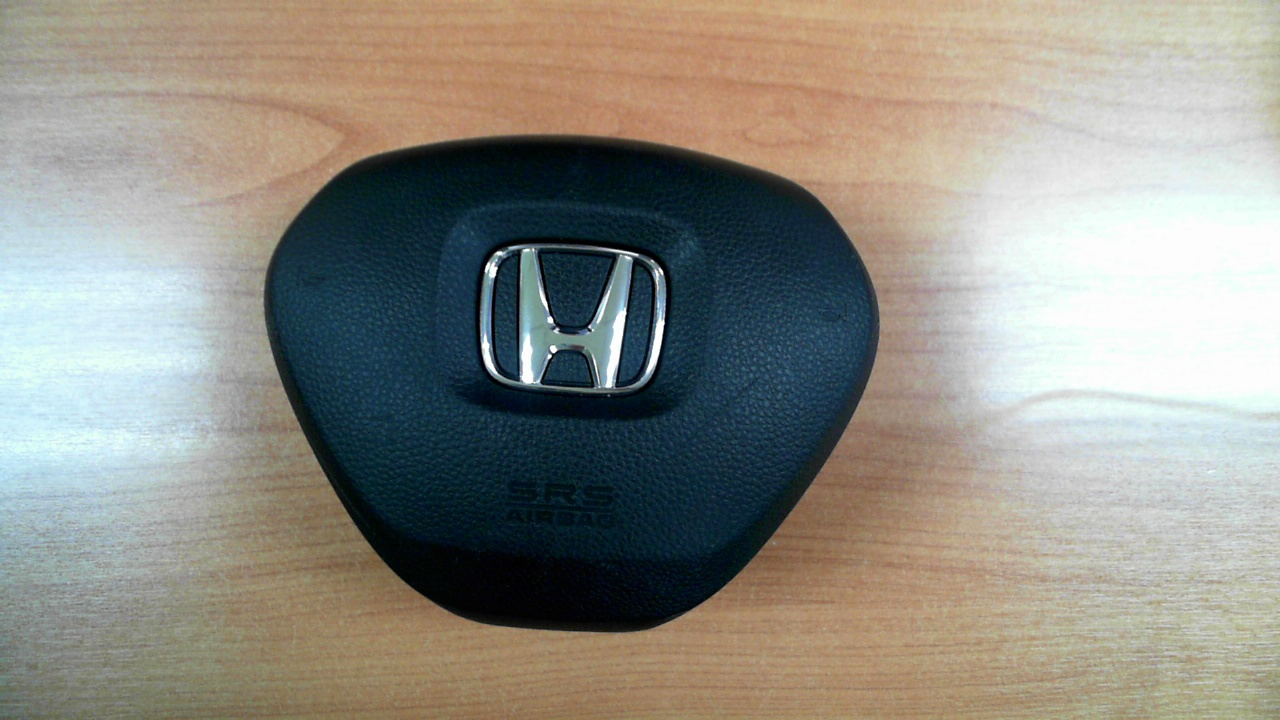Airbag: (262, 134, 880, 632)
Honda: (479, 243, 667, 394)
